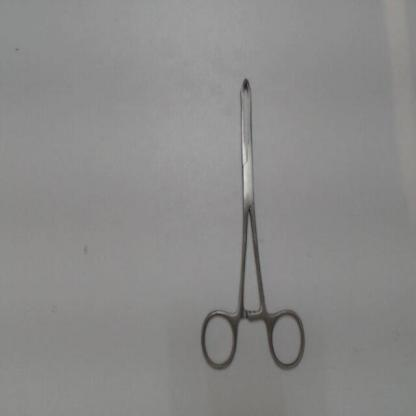Allis Tissue Forceps: (194, 66, 313, 375)
